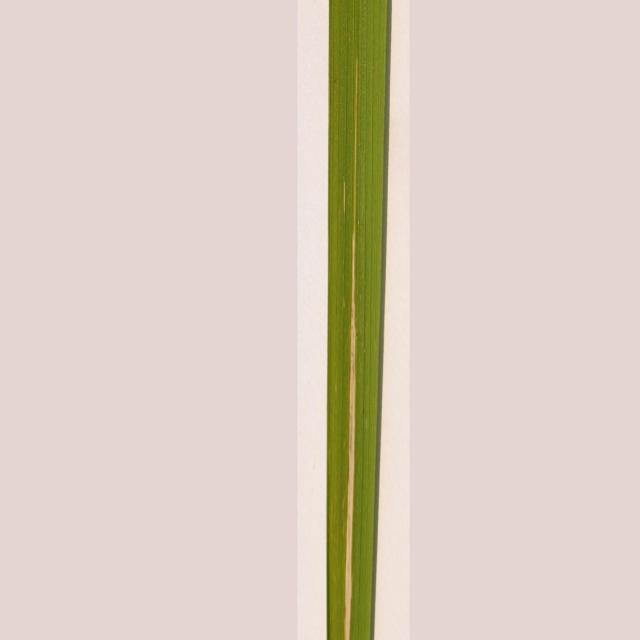Bacterial leaf blight: (341, 53, 364, 640)
